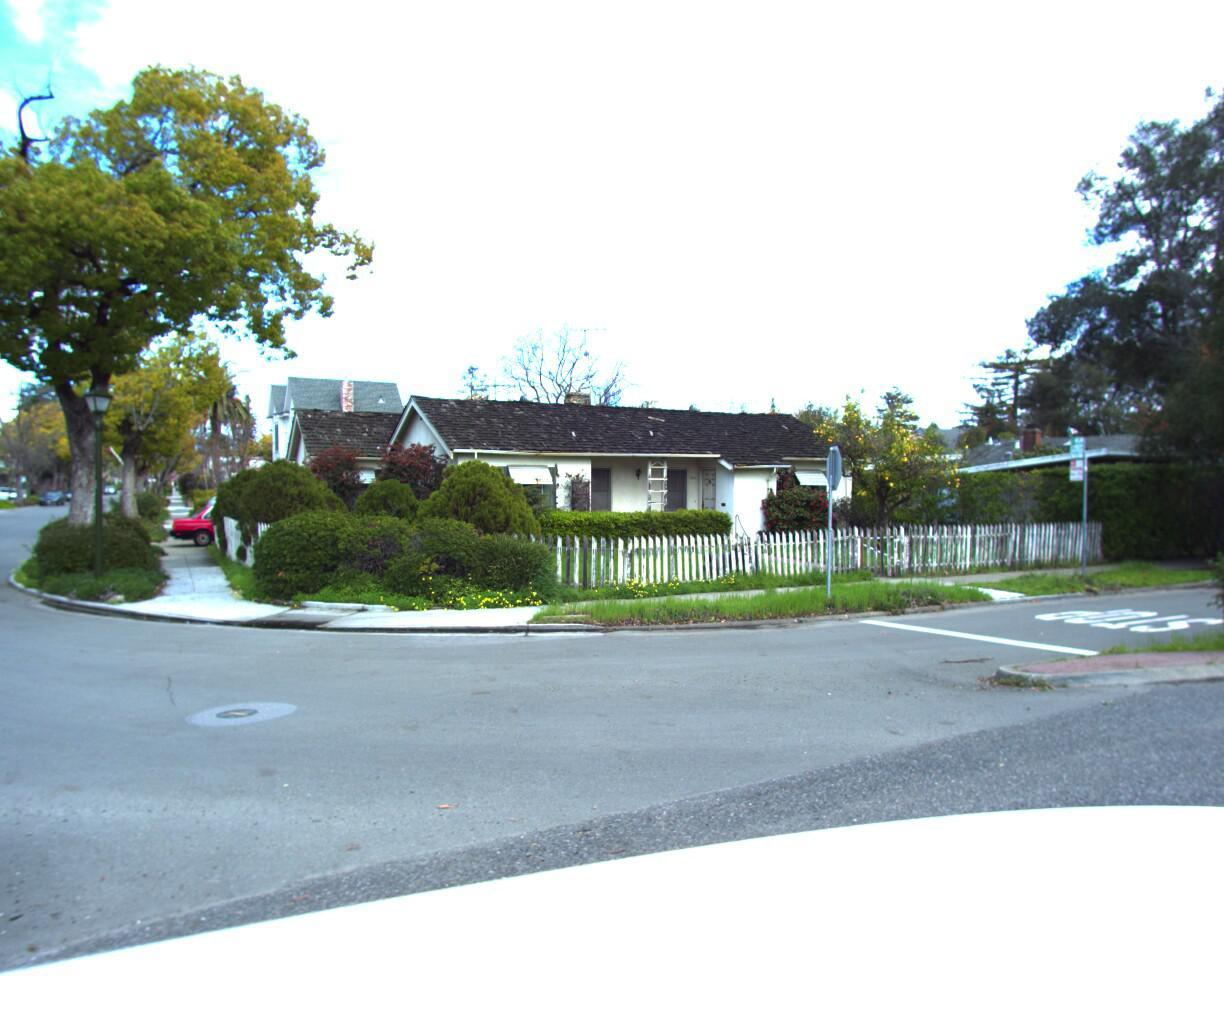car: (169, 502, 304, 550)
